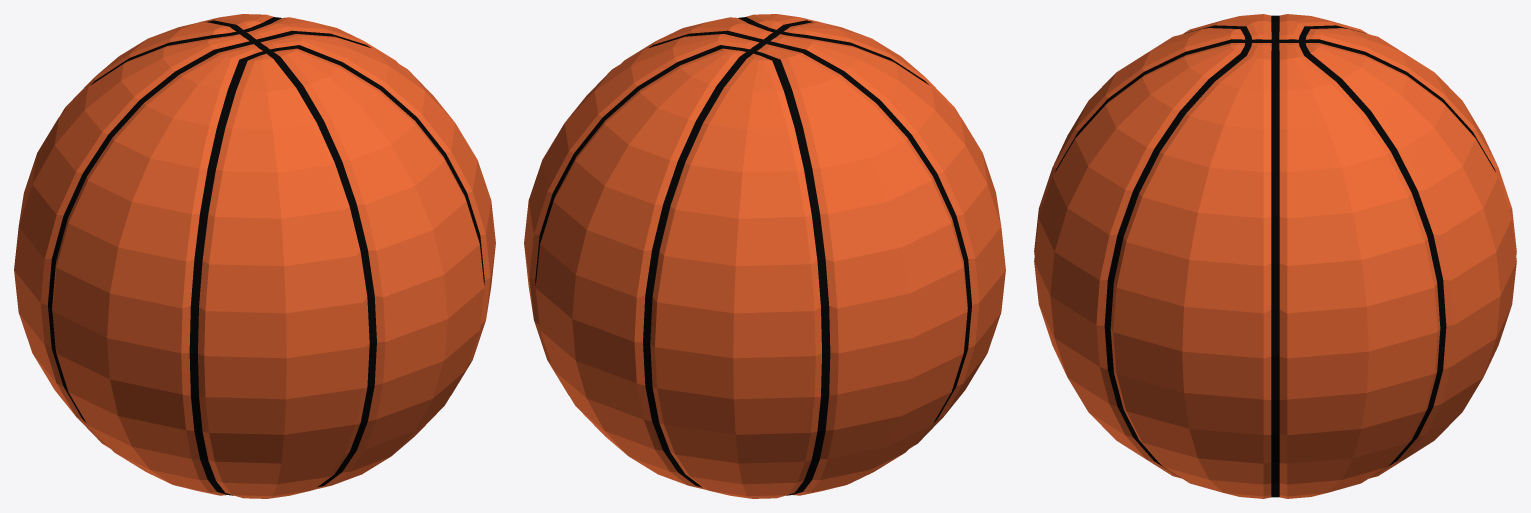
The model's file is iso_ball_lowpoly.glb.
3 renders of one model, left to right at view 1: azimuth 30°, elevation 25°; view 2: azimuth 150°, elevation 25°; view 3: azimuth 270°, elevation 25°, orthographic.
Visible parts, largest first — view 1: iso-ball; view 2: iso-ball; view 3: iso-ball.
Boxes of the visible parts, box(x1,y1,x2,y2) form: iso-ball: box(14, 14, 495, 498); iso-ball: box(524, 14, 1005, 498); iso-ball: box(1034, 14, 1516, 498).
Size of the model in its own units: 0.2377 by 0.2354 by 0.2377.
